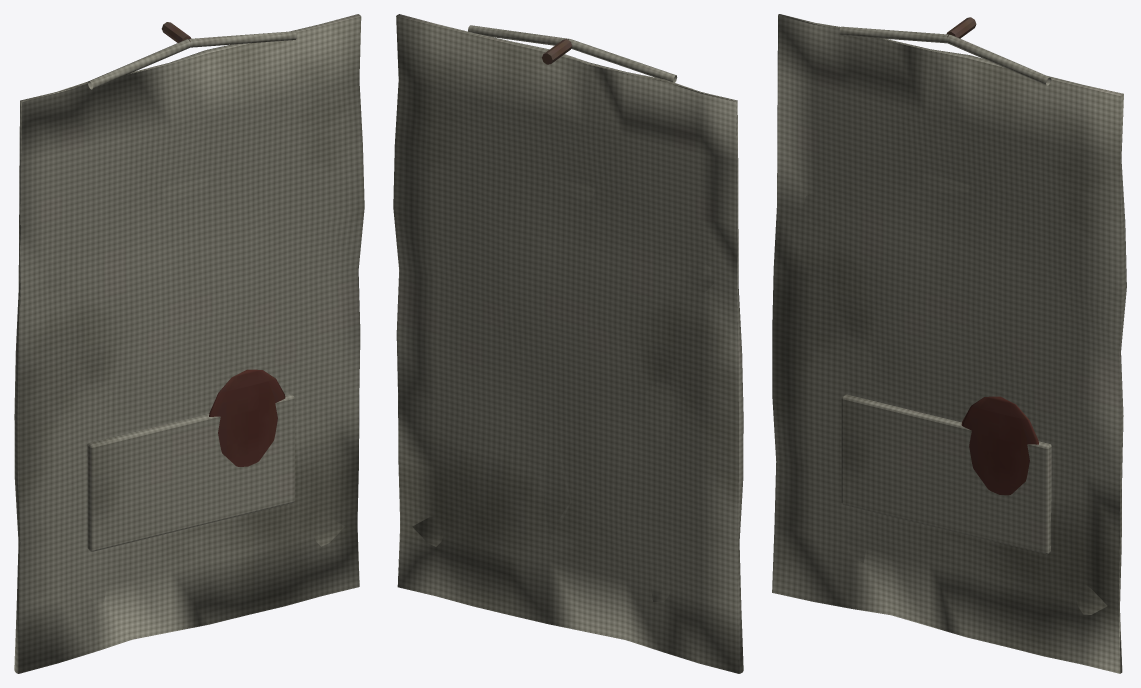
The model's file is CL12_Apron.glb.
The picture shows the model from 3 angles, left to right: view 1: azimuth 30°, elevation 25°; view 2: azimuth 150°, elevation 25°; view 3: azimuth 330°, elevation 25°; orthographic projection.
Parts seen in each view (by area): view 1: CL12_Apron; view 2: CL12_Apron; view 3: CL12_Apron.
Boxes of the visible parts, x1,y1,x2,y2 form: CL12_Apron: [14, 14, 364, 673]; CL12_Apron: [393, 14, 743, 673]; CL12_Apron: [772, 14, 1126, 673].
Bounding box in the file's own units: 0.5516 × 0.9 × 0.0768.
Materials: 3 (3 with a texture image).
